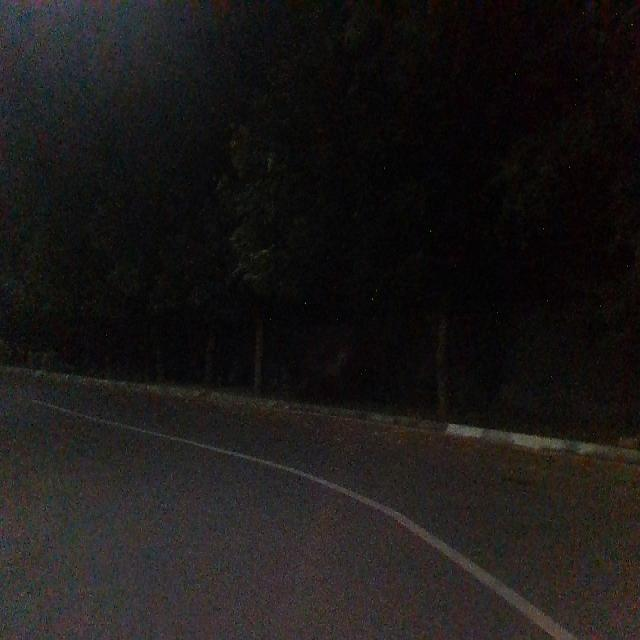lane: (0, 397, 557, 640)
